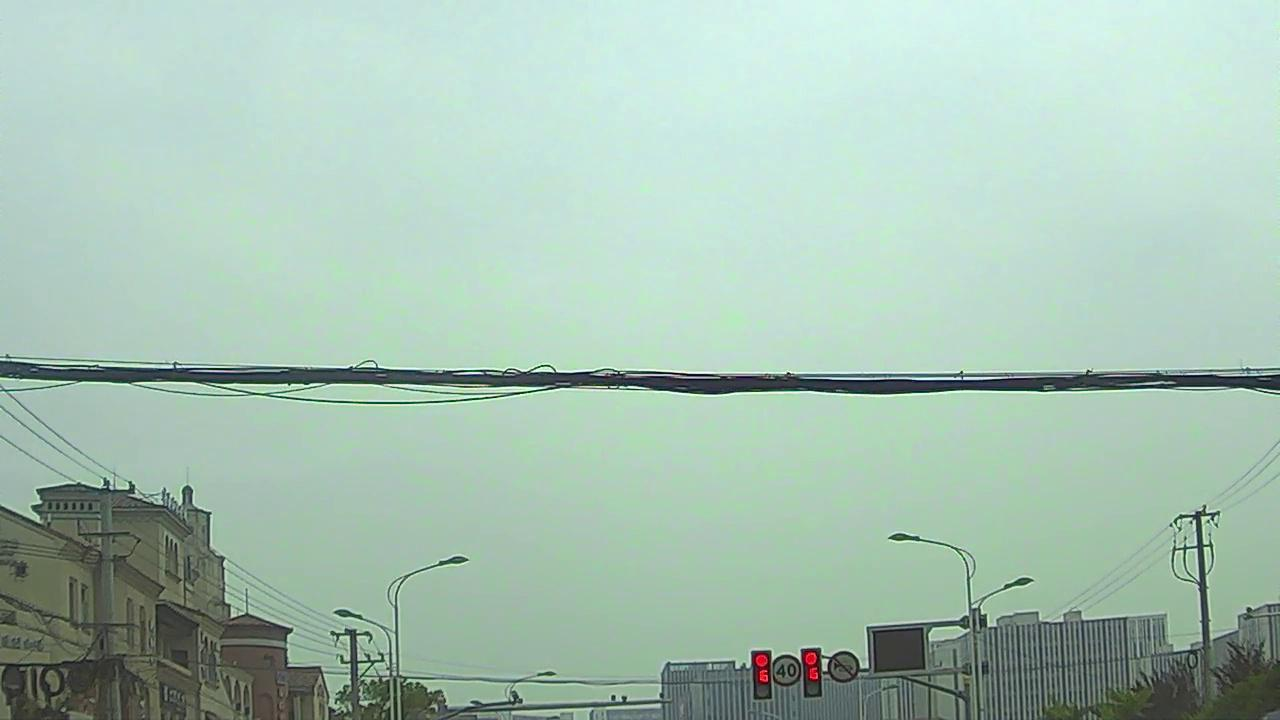traffic_light: (754, 648, 774, 699), (802, 647, 822, 697)
